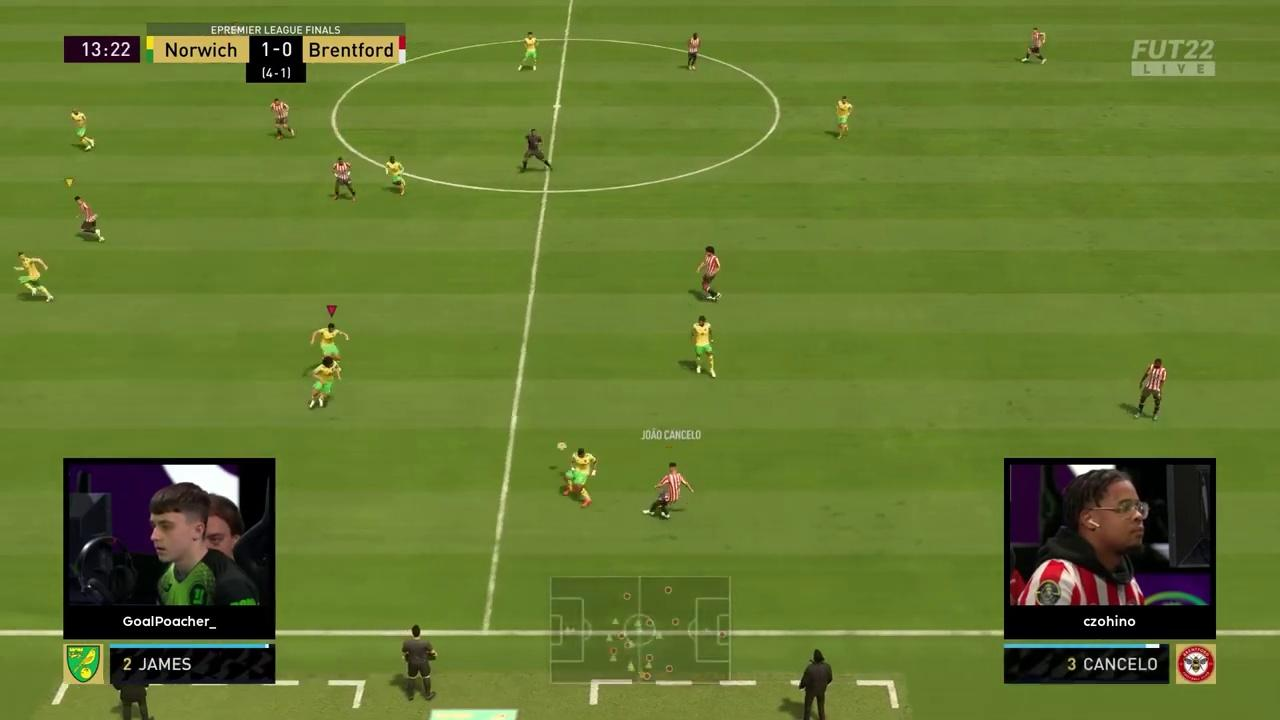scoreboard: (148, 33, 408, 68)
timestamp: (69, 32, 138, 62)
